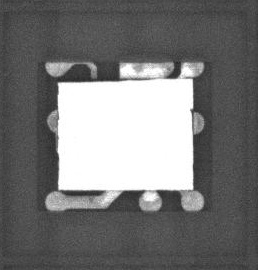DIE_BROKEN: (188, 108, 194, 125)
